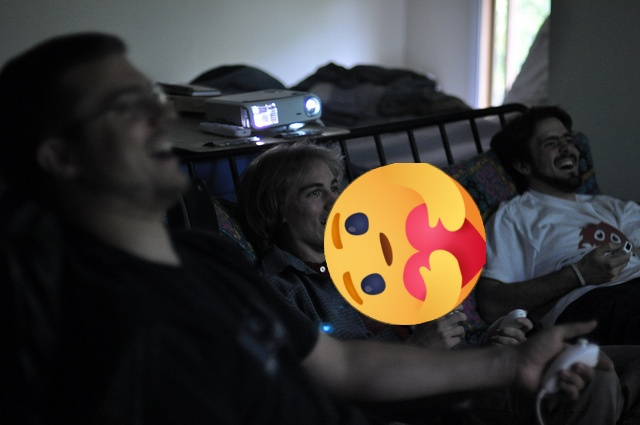care: (324, 163, 486, 325)
